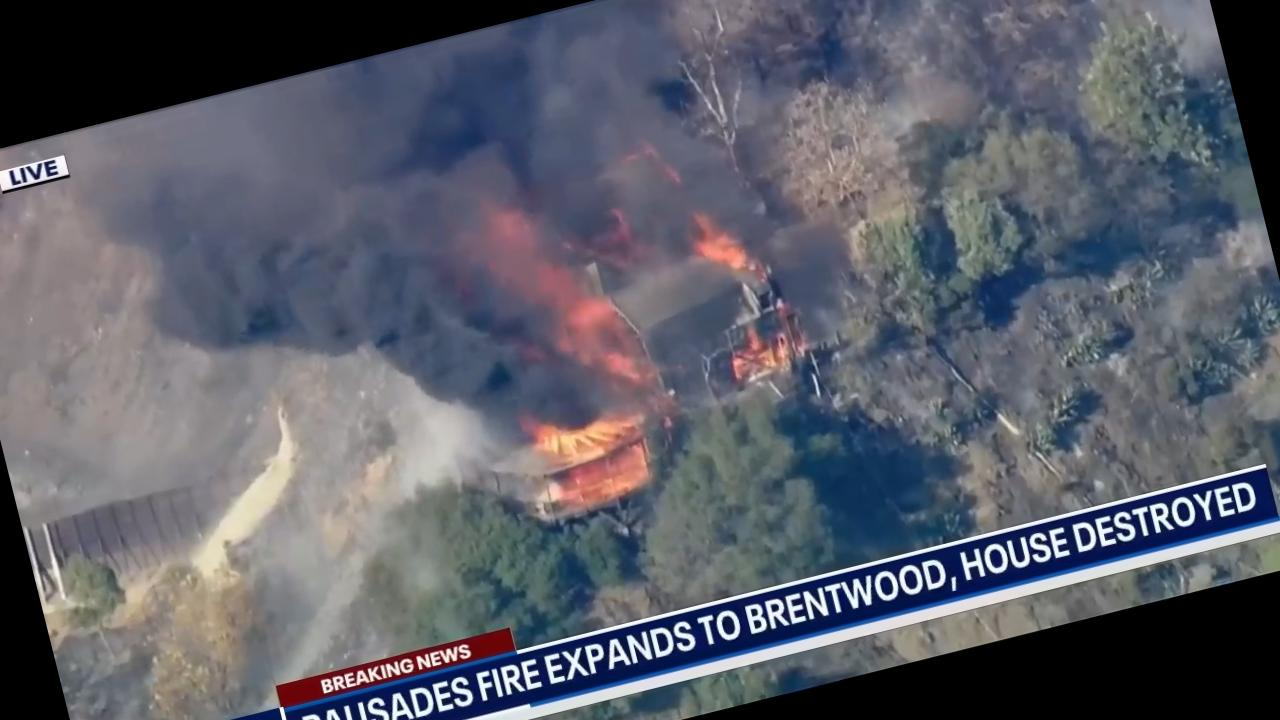Smoke: (88, 0, 770, 521)
